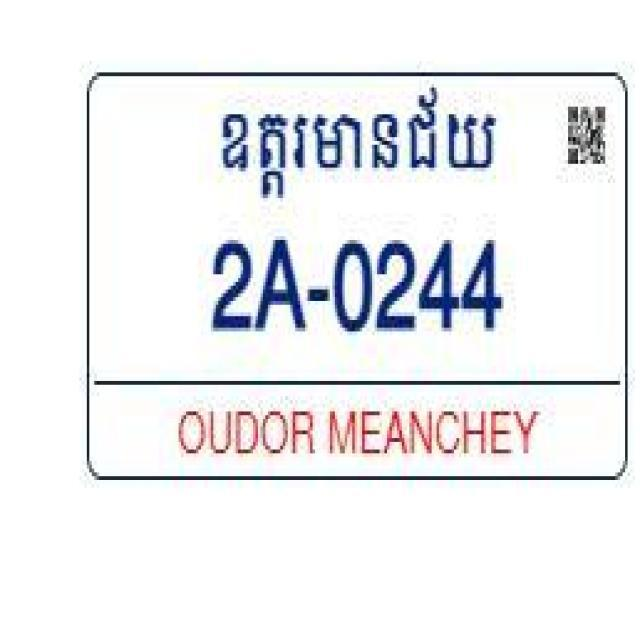Oudor_Meanchey: (211, 84, 498, 204)
